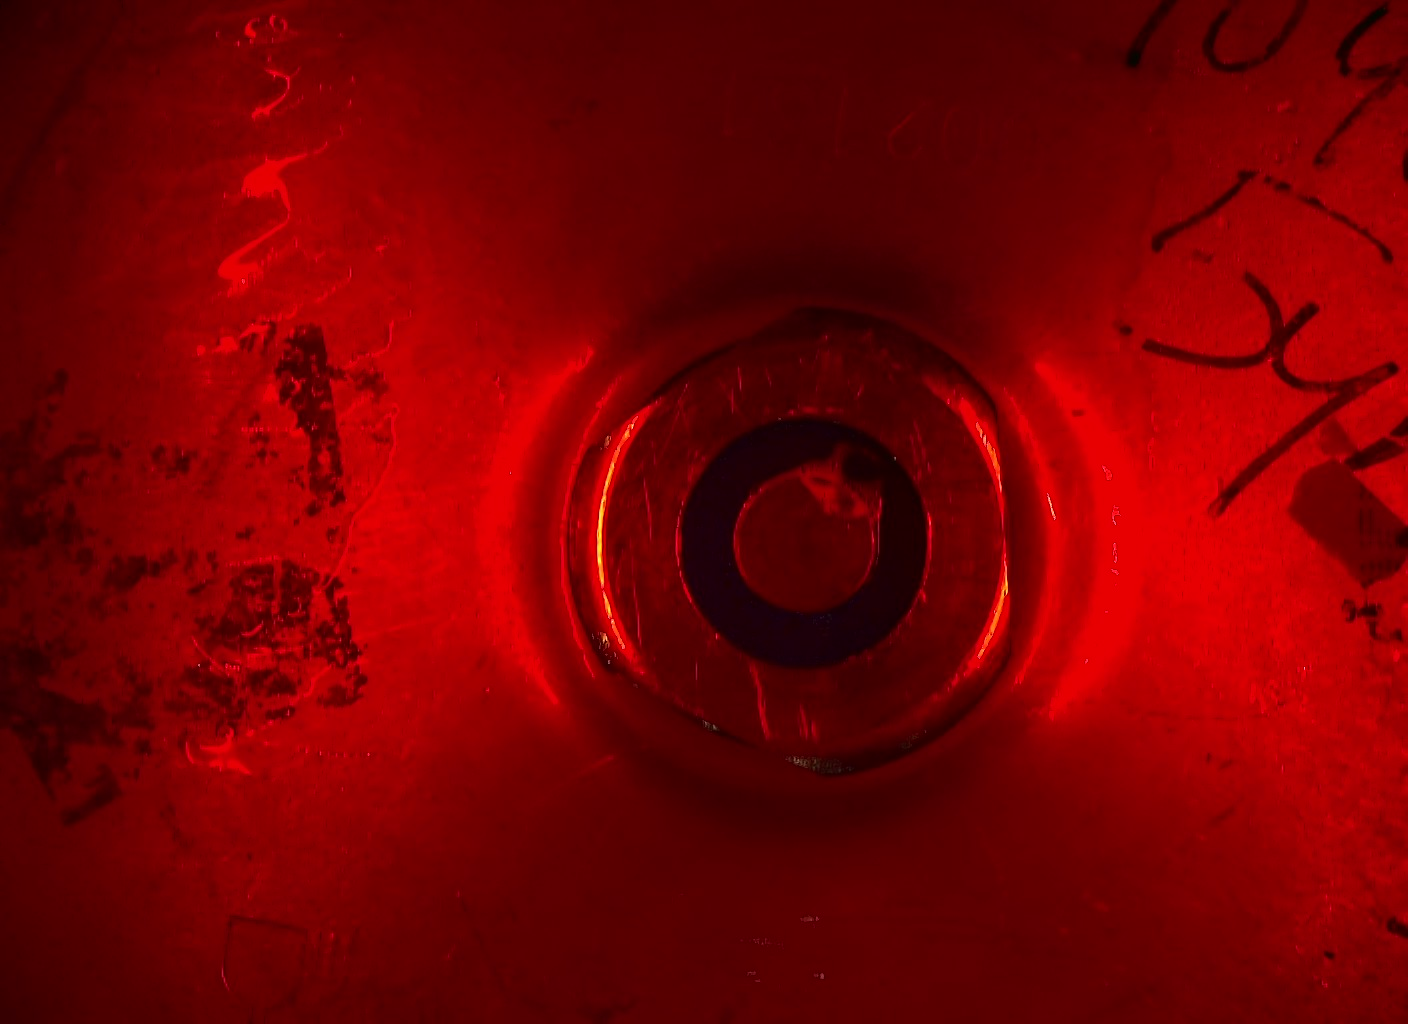pena: (793, 432, 887, 532)
